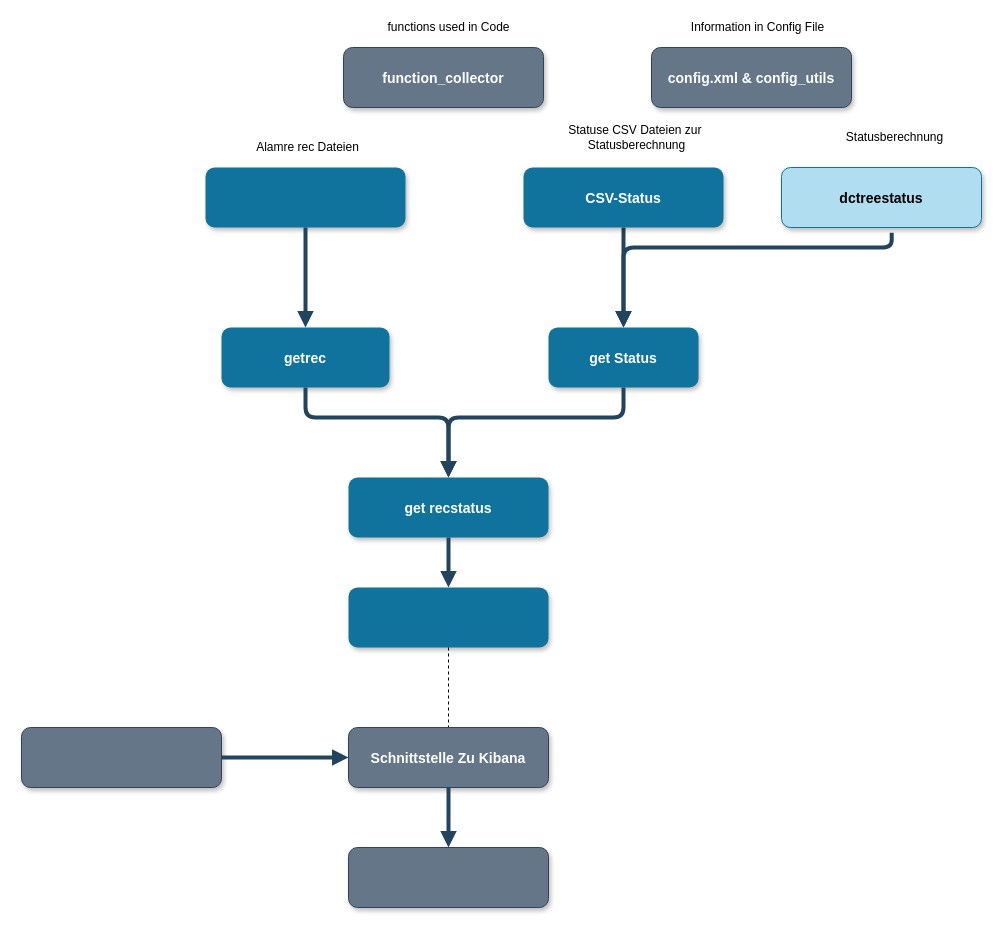
Some shapes in this 1005 by 932 pixel diagram are drawn without their labels. The centre of each missing label's shape, as x and y in pixels:
alarme rec dateien: the point at 306,198
Cloud: the point at 122,758
get_data_into_log_file: the point at 449,618
Kibana Dashboard und CO: the point at 449,878
